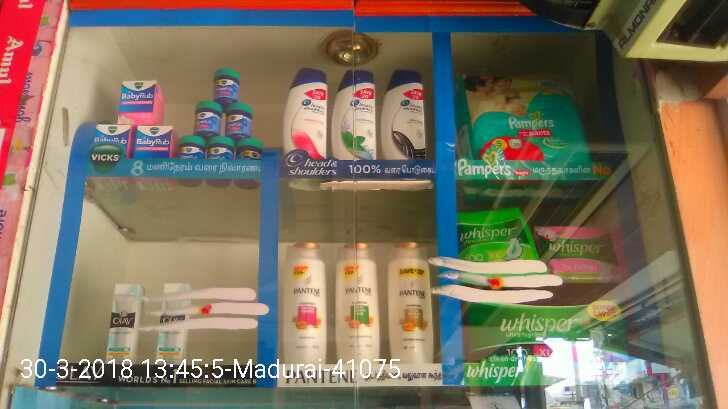vicks: (120, 79, 162, 123), (132, 126, 174, 157), (97, 125, 132, 157), (194, 103, 223, 137), (213, 68, 241, 102), (227, 104, 253, 137), (179, 137, 206, 160), (208, 138, 233, 160), (238, 139, 263, 160)
